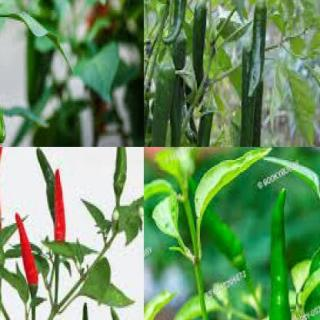green_chilli: (183, 178, 252, 284), (267, 185, 299, 319), (150, 63, 175, 146), (247, 5, 269, 96), (168, 42, 187, 146), (238, 47, 254, 146), (159, 0, 193, 45), (191, 0, 207, 94), (34, 147, 54, 220), (251, 82, 264, 146), (115, 147, 128, 199), (198, 109, 216, 146), (76, 301, 92, 319)
